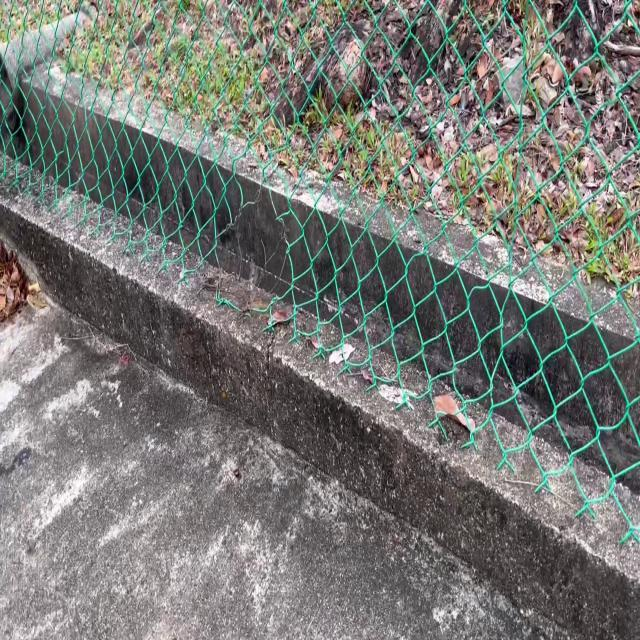fence line: (211, 184, 299, 330)
